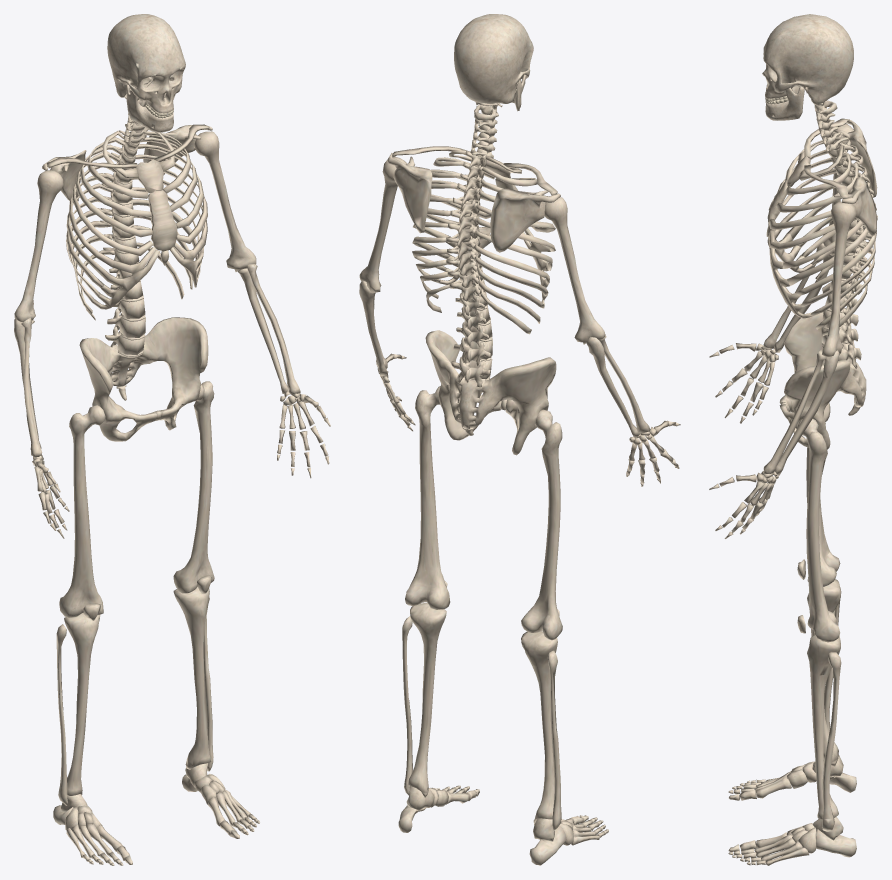
Rendered from Skeleton.FBX.
The picture shows the model from 3 angles, left to right: view 1: azimuth 30°, elevation 25°; view 2: azimuth 150°, elevation 25°; view 3: azimuth 270°, elevation 25°; orthographic projection.
Visible parts, largest first — view 1: MaleSkeletalHipLeftandSacrumGeo, Skull, MaleSkeletalFemurRightGeo, MaleSkeletalFemurLeftGeo, MaleSkeletalTibiaLeftGeo, MaleSkeletalTibiaRightGeo, MaleSkeletalCostalCartilagesGeo, MaleSkeletalSternumGeo, MaleSkeletalHumerusLeftGeo, MaleSkeletalHumerusRightGeo, MaleSkeletalRibs04Geo, MaleSkeletalRibs05Geo (+18 smaller); view 2: MaleSkeletalHipLeftandSacrumGeo, Skull, MaleSkeletalFemurLeftGeo, MaleSkeletalFemurRightGeo, MaleSkeletalTibiaLeftGeo, MaleSkeletalTibiaRightGeo, MaleSkeletalScapulaLeftGeoRightGeo, MaleSkeletalHumerusRightGeo, MaleSkeletalScapulaLeftGeo, MaleSkeletalHumerusLeftGeo, MaleSkeletalFibulaRightGeo, MaleSkeletalFibulaLeftGeo (+17 smaller); view 3: Skull, MaleSkeletalHipLeftandSacrumGeo, MaleSkeletalFemurLeftGeo, MaleSkeletalTibiaLeftGeo, MaleSkeletalHumerusLeftGeo, MaleSkeletalFibulaLeftGeo, MaleSkeletalCostalCartilagesGeo, MaleSkeletalUlnaLeftGeo, MaleSkeletalScapulaLeftGeo, MaleSkeletalRadiusLeftGeo, MaleSkeletalFemurRightGeo, Jaw (+23 smaller).
Part boxes in pixels (x1,y1,x2,y2): MaleSkeletalHipLeftandSacrumGeo: (79,317,208,441); Skull: (107,14,185,113); MaleSkeletalFemurRightGeo: (59,405,105,617); MaleSkeletalFemurLeftGeo: (173,381,214,593); MaleSkeletalTibiaLeftGeo: (173,586,211,769); MaleSkeletalTibiaRightGeo: (64,613,100,795); MaleSkeletalCostalCartilagesGeo: (92,238,205,309); MaleSkeletalSternumGeo: (136,159,177,265); MaleSkeletalHumerusLeftGeo: (194,131,256,271); MaleSkeletalHumerusRightGeo: (14,170,63,322); MaleSkeletalRibs04Geo: (75,144,204,237); MaleSkeletalRibs05Geo: (72,154,207,255); MaleSkeletalHipLeftandSacrumGeo: (425,330,556,455); Skull: (454,14,533,103); MaleSkeletalFemurLeftGeo: (405,386,450,609); MaleSkeletalFemurRightGeo: (521,409,562,640); MaleSkeletalTibiaLeftGeo: (407,603,446,797); MaleSkeletalTibiaRightGeo: (521,631,557,824); MaleSkeletalScapulaLeftGeoRightGeo: (490,188,560,252); MaleSkeletalHumerusRightGeo: (544,197,605,344); MaleSkeletalScapulaLeftGeo: (387,153,432,233); MaleSkeletalHumerusLeftGeo: (359,157,407,293); MaleSkeletalFibulaRightGeo: (547,650,561,831); MaleSkeletalFibulaLeftGeo: (402,616,412,795); Skull: (762,14,853,104); MaleSkeletalHipLeftandSacrumGeo: (779,312,866,449); MaleSkeletalFemurLeftGeo: (797,419,840,642); MaleSkeletalTibiaLeftGeo: (807,634,840,819); MaleSkeletalHumerusLeftGeo: (822,201,856,357); MaleSkeletalFibulaLeftGeo: (822,652,841,831); MaleSkeletalCostalCartilagesGeo: (769,219,812,318); MaleSkeletalUlnaLeftGeo: (775,350,839,475); MaleSkeletalScapulaLeftGeo: (833,177,877,235); MaleSkeletalRadiusLeftGeo: (763,349,826,473); MaleSkeletalFemurRightGeo: (806,447,840,586); Jaw: (765,86,804,120).
Bounding box in the file's own units: 57.1 × 156 × 29.47.
